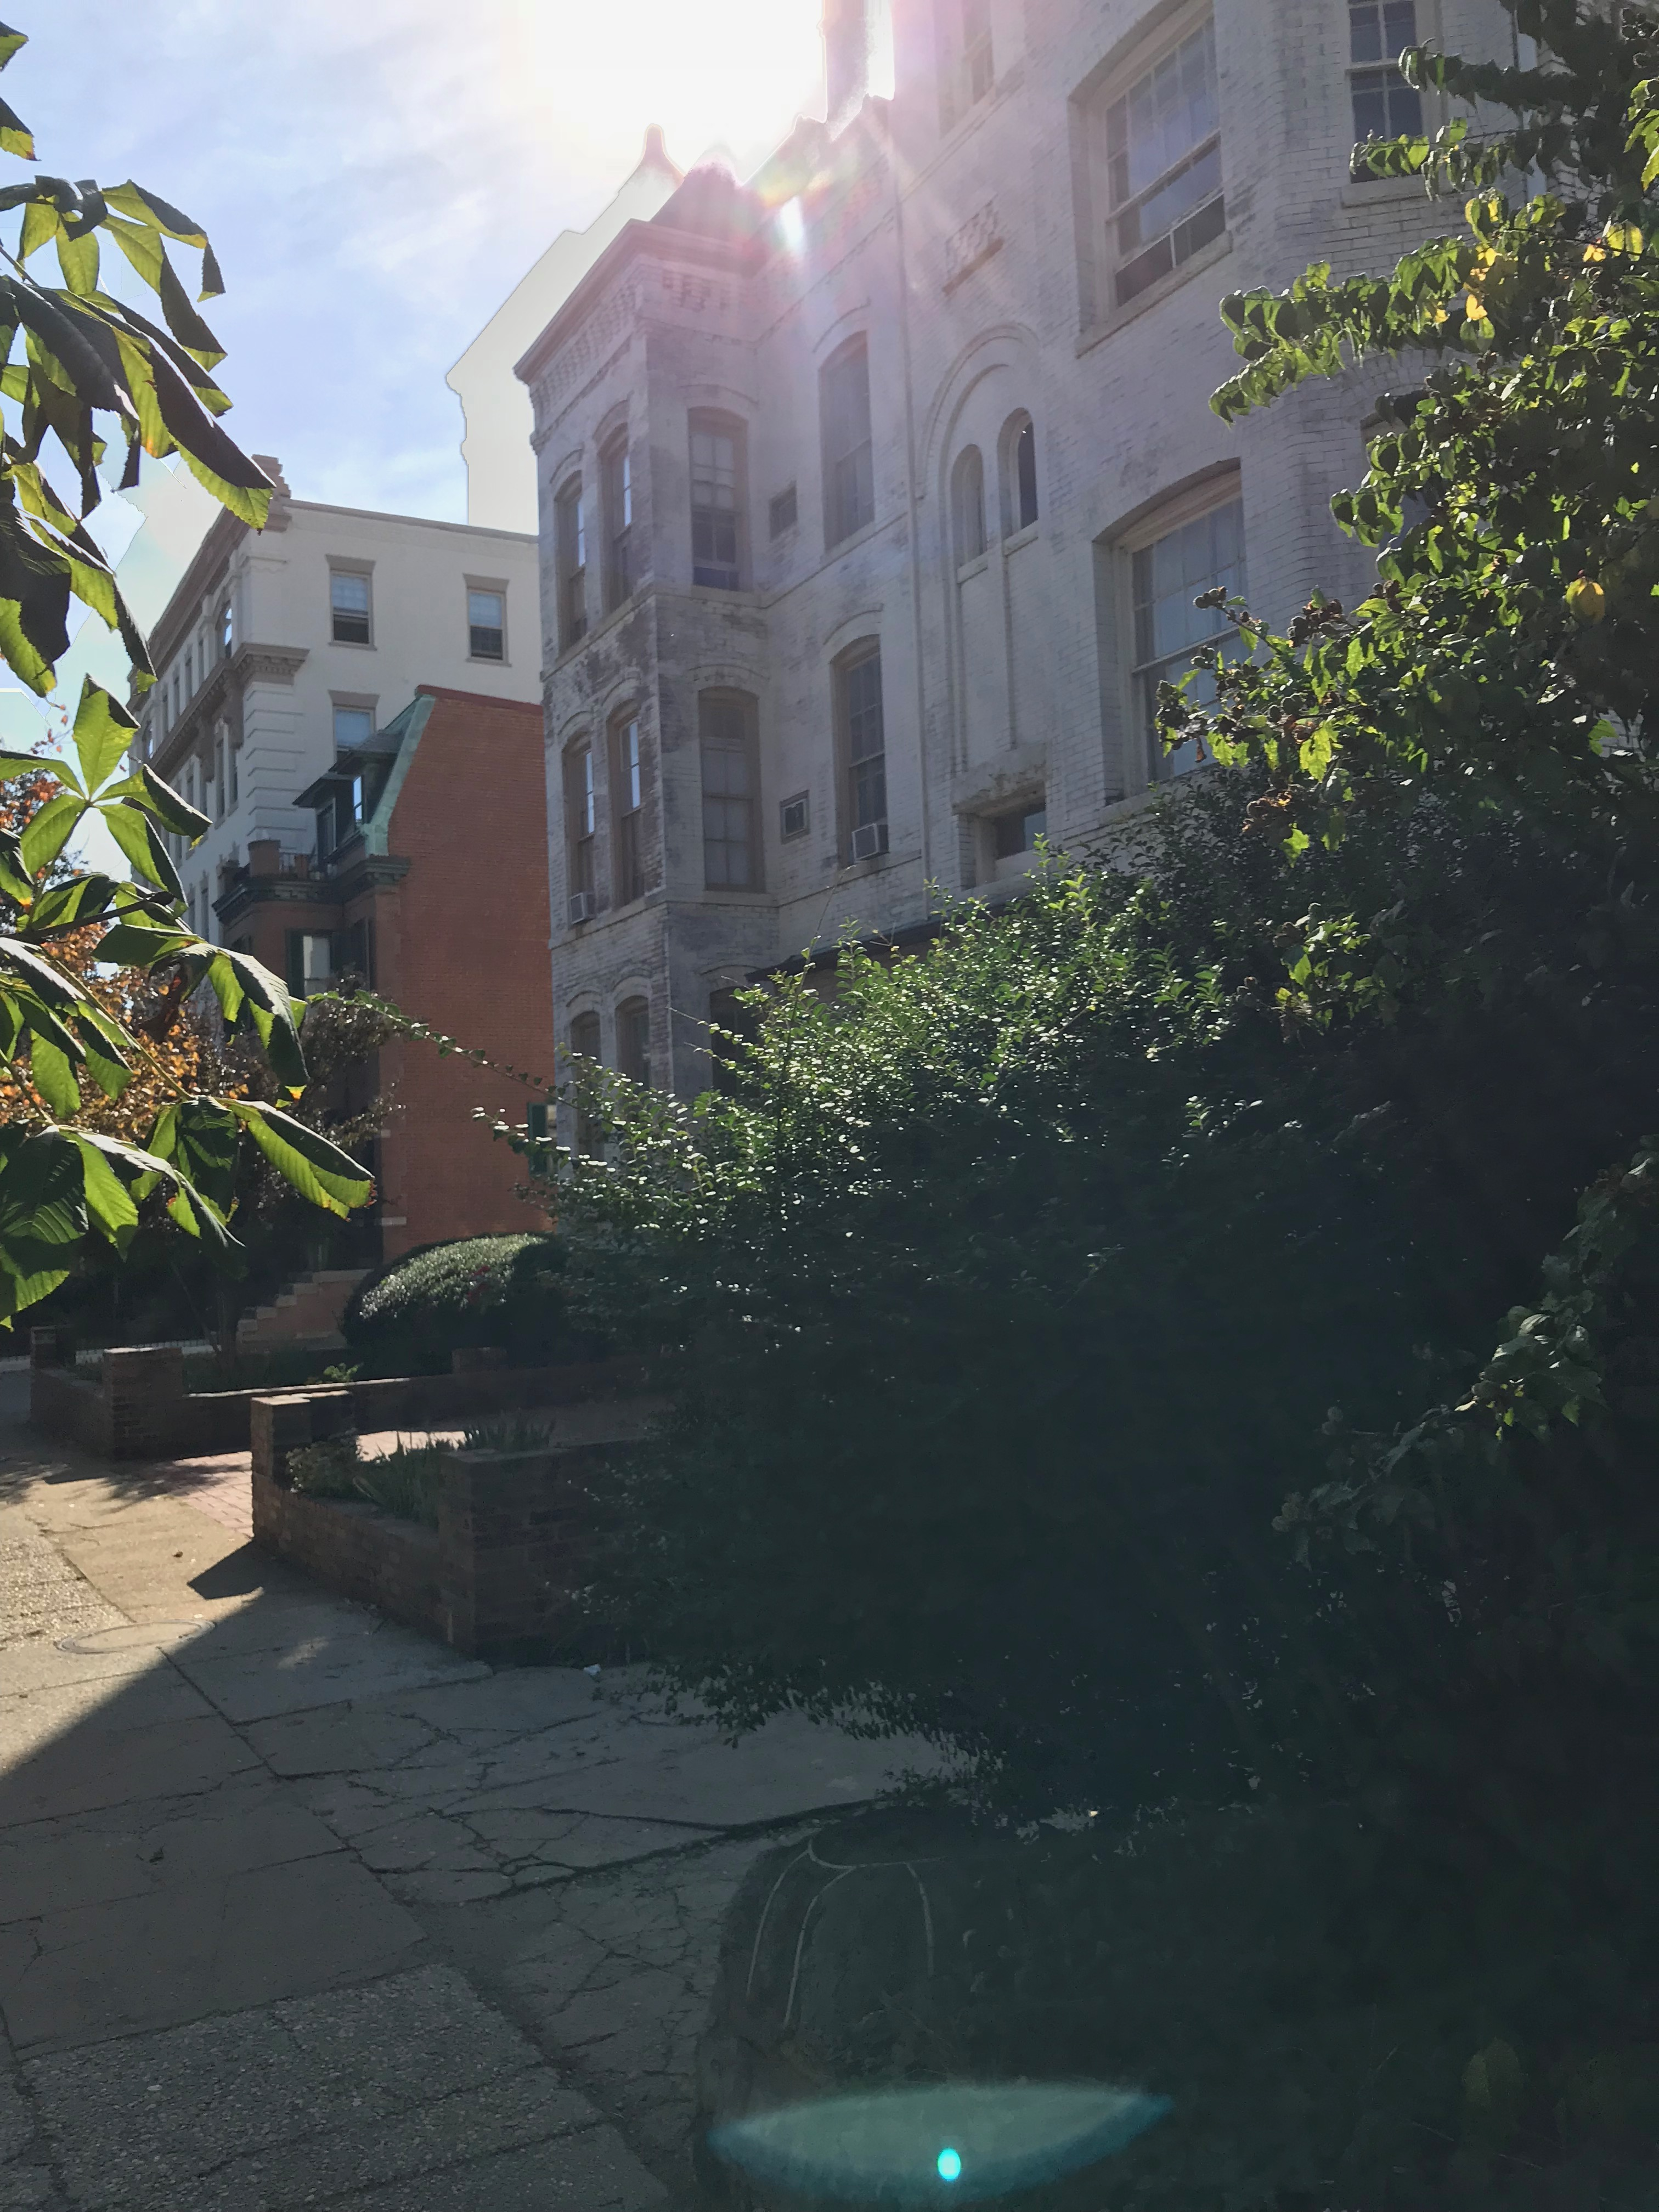flare: (934, 2146, 965, 2184)
